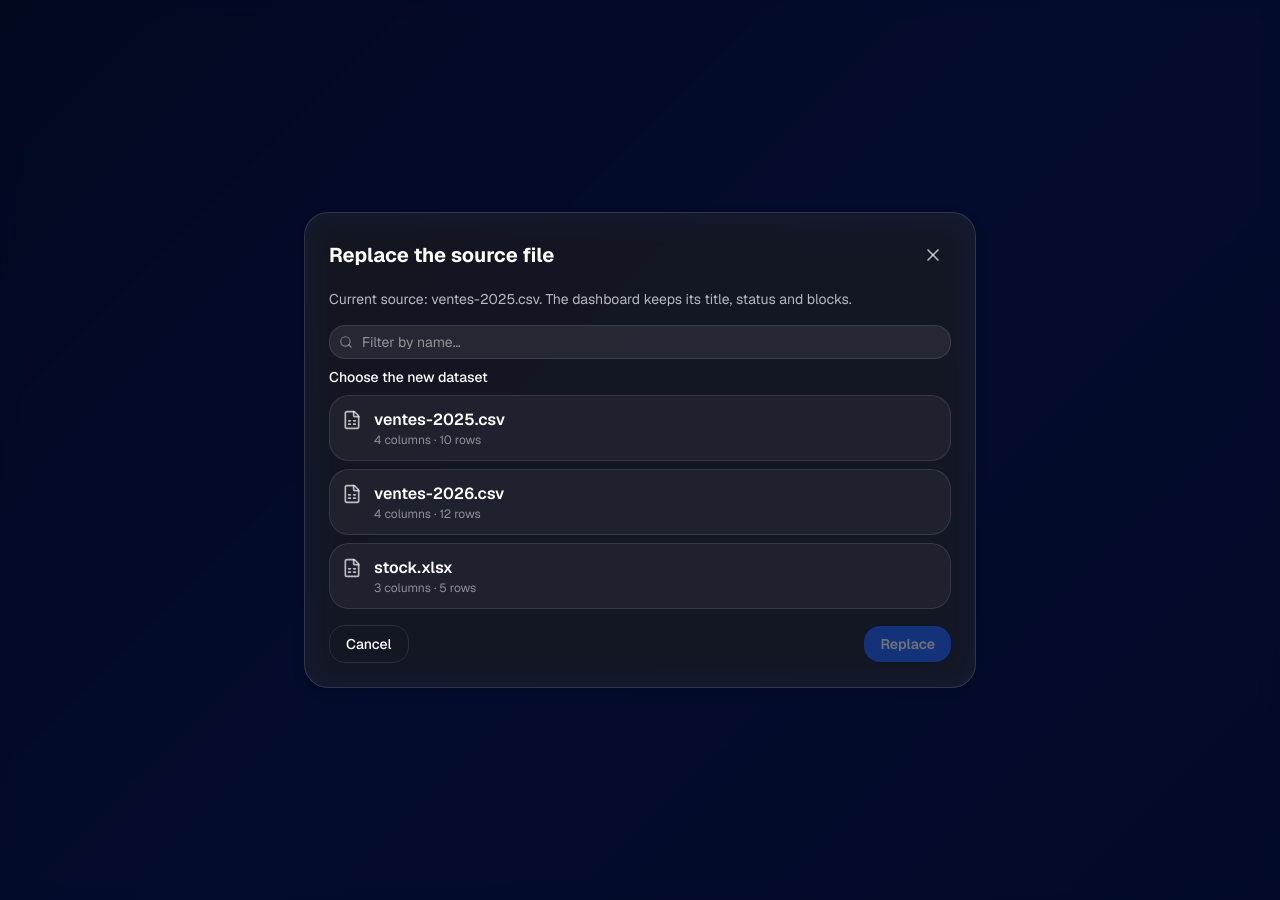
Test: ReplaceSourceModal › shows a type warning without blocking
Click the radio button labelled "ventes-2026.csv 4 columns · 12 rows".
click(439, 494)  # box [329, 469, 951, 535]
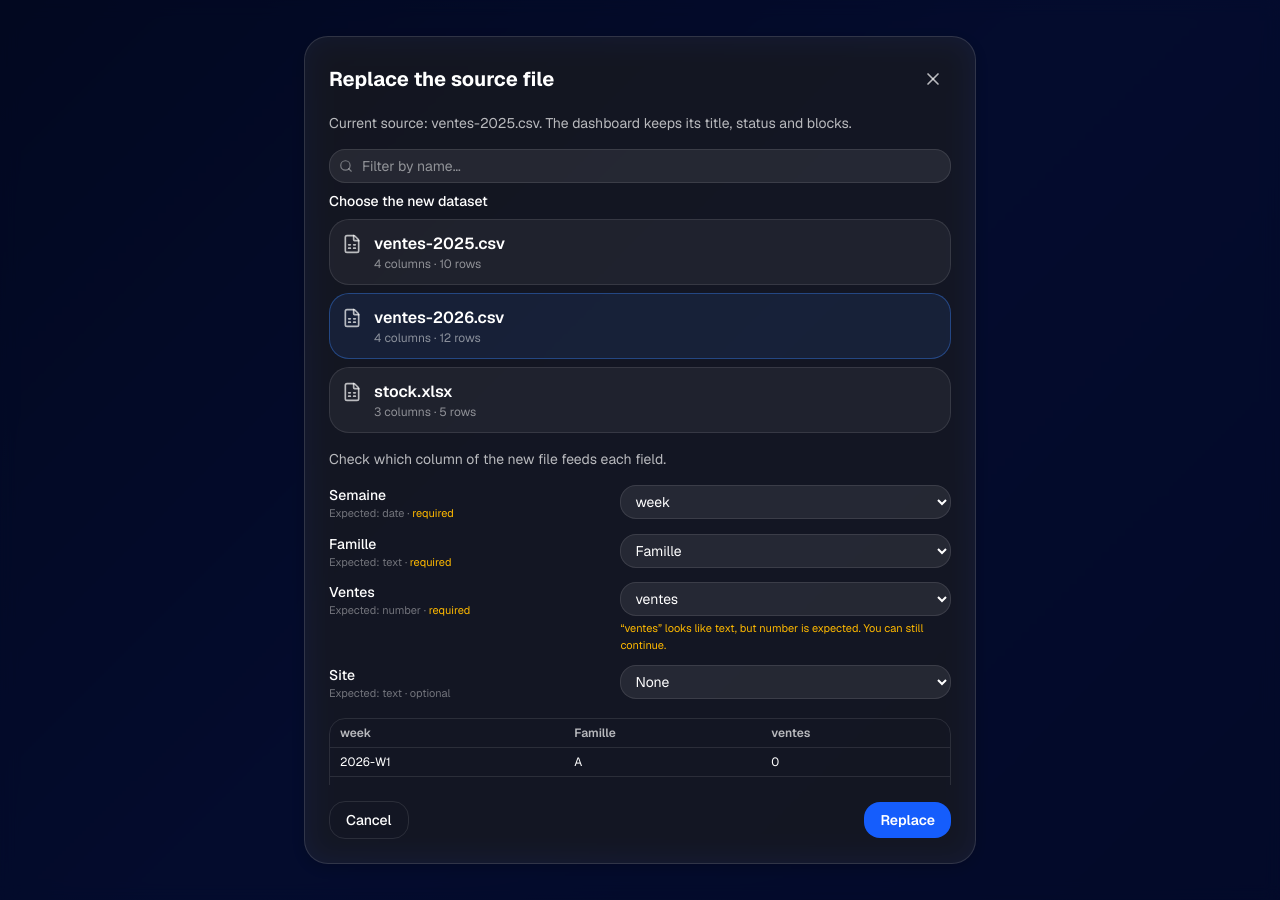
Now the dropdown labelled "Semaine" is shown, box [620, 485, 951, 519]
Now the text "looks like text, but number is expected" is shown, box [620, 621, 923, 652]
Now the button "Replace" is enabled, box [864, 802, 951, 838]
